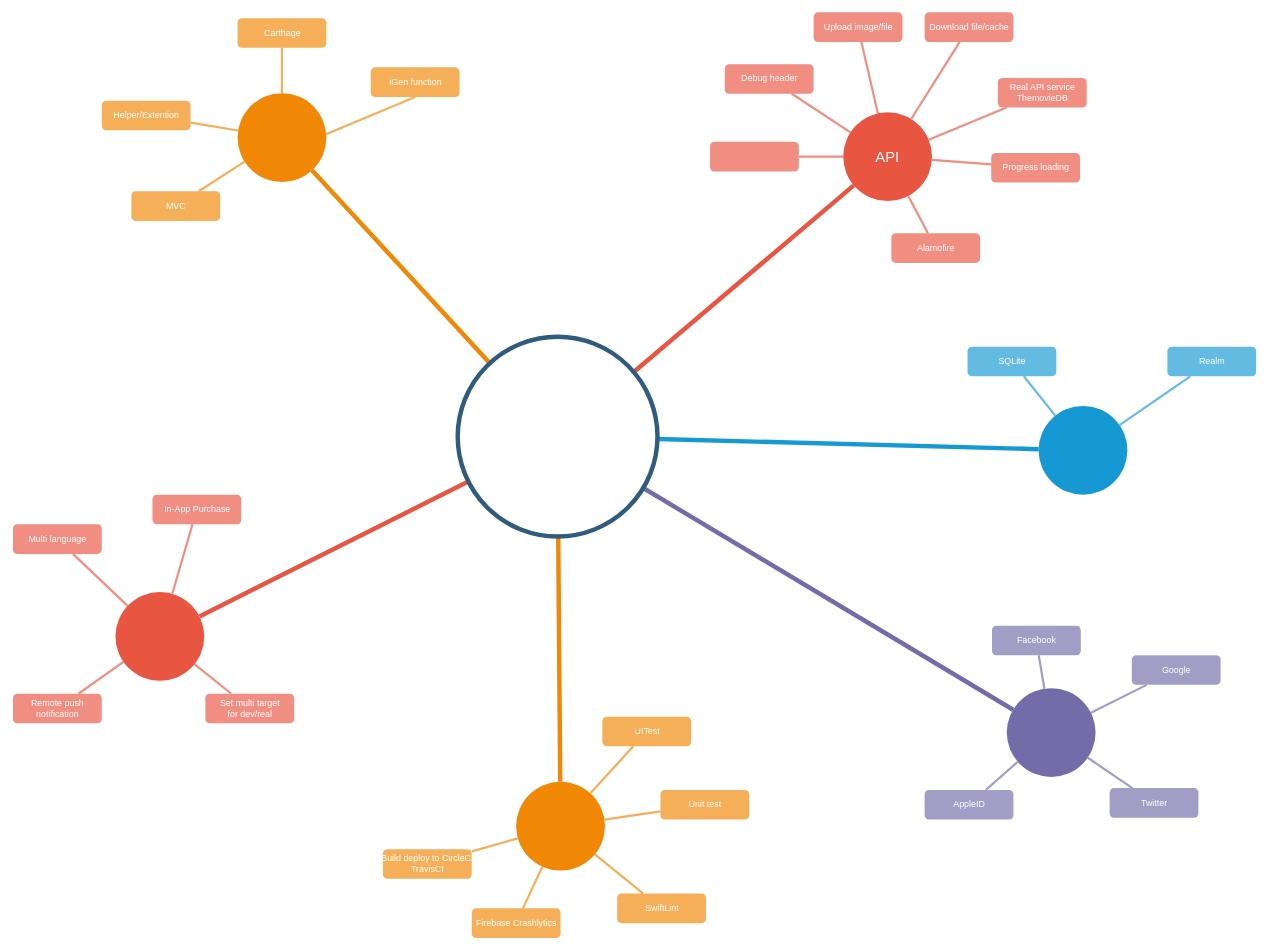
Image size: 1268x951. Some labels were removed from this diagram. The shapes that lost their labels are listed below. From the top down, each one's box as (x1, y1, x2, y2) in pixels, then its label:
(237, 93, 326, 182): Architecture
(710, 141, 798, 171): Handle error request
(455, 334, 659, 538): Kaizen iOS
(1038, 406, 1127, 494): Database
(115, 592, 204, 680): Other
(1006, 688, 1095, 777): Login SNS
(516, 781, 605, 870): Test
